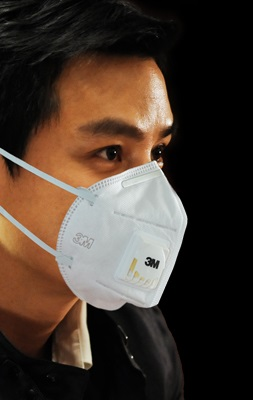face_mask: (36, 41, 182, 315)
